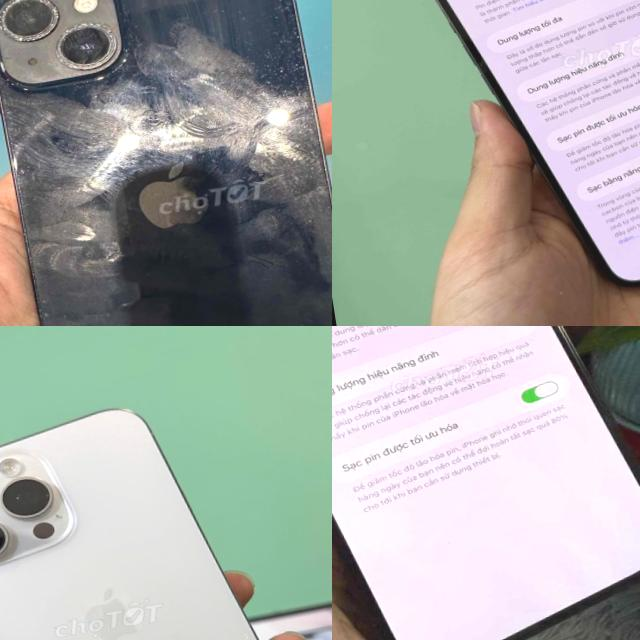scratch: (246, 0, 332, 294), (0, 95, 96, 326), (0, 0, 158, 107)
